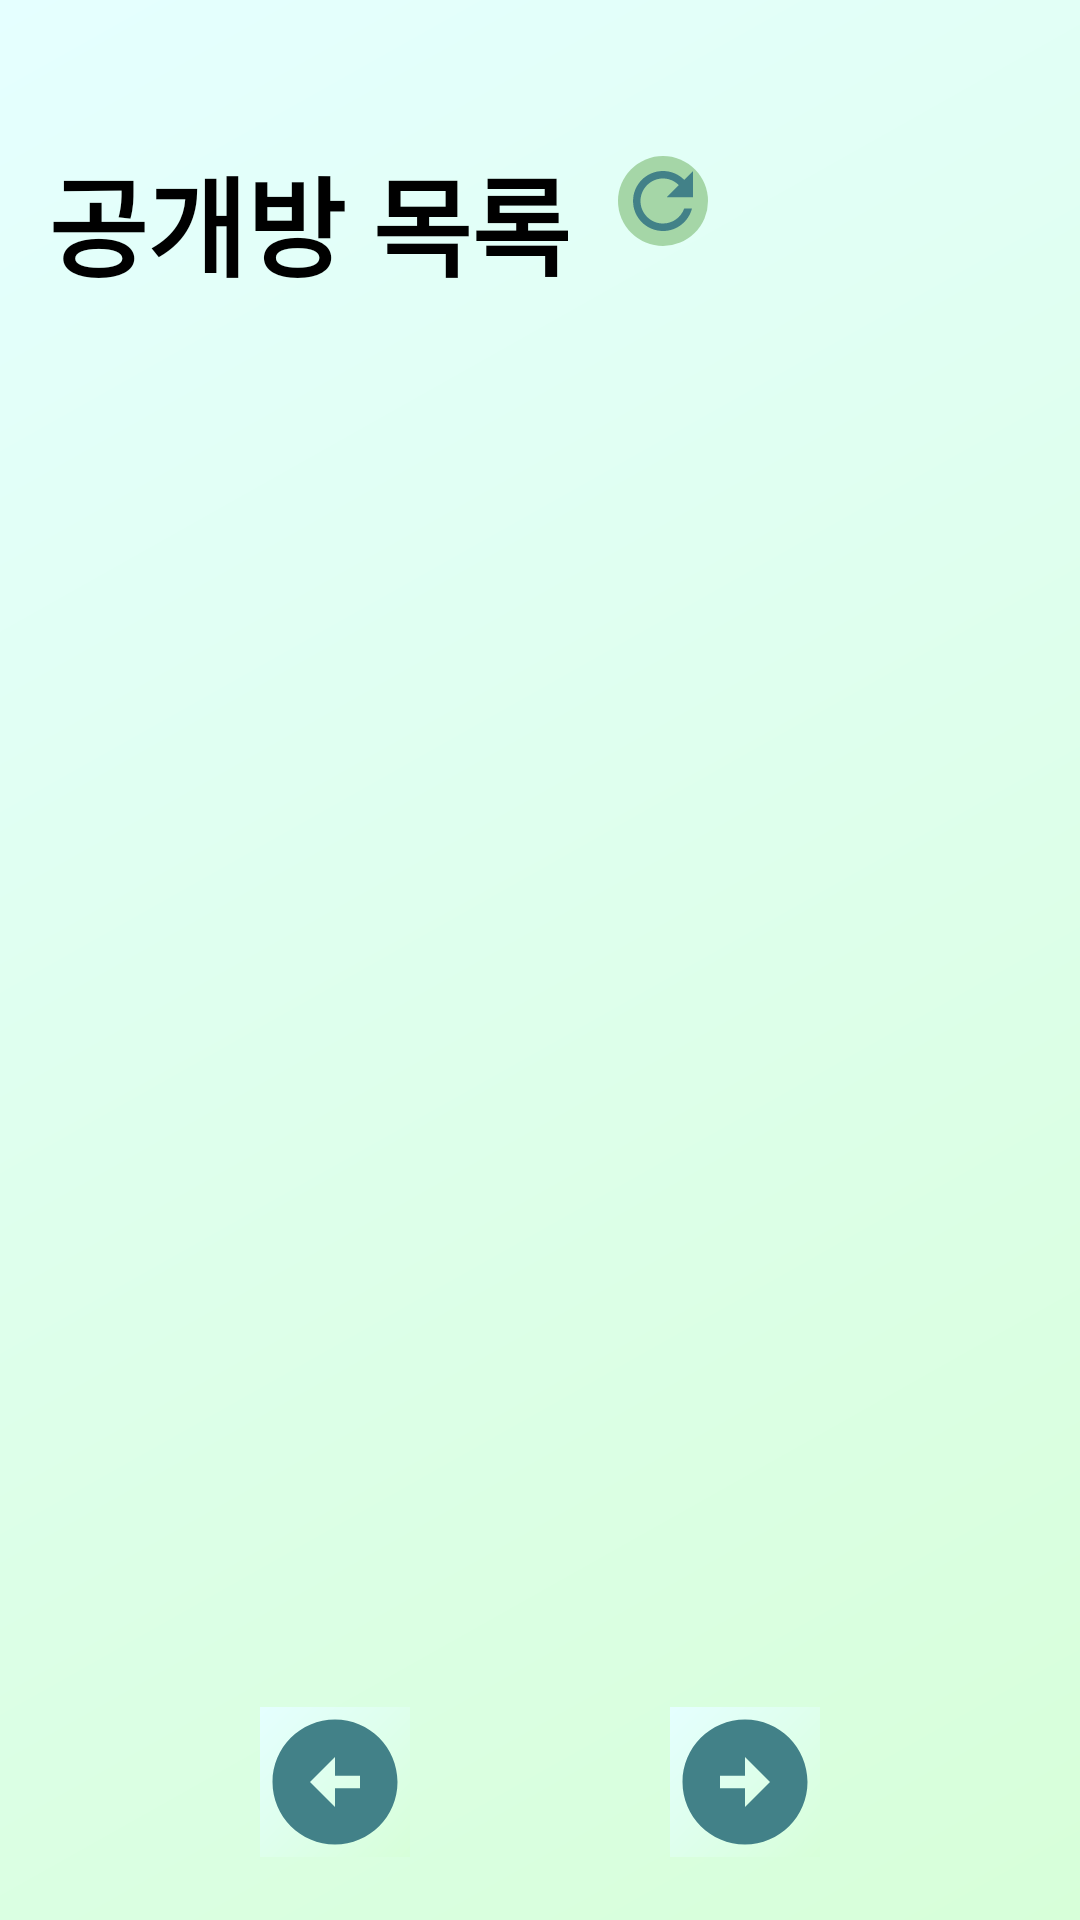

Named icons in this screenshot (1080 × 1920) and their bounding boxes, (x1, y1, x2, y2):
arrow circle left: (260, 1707, 398, 1845)
arrow circle right: (670, 1707, 808, 1845)
refresh: (618, 156, 708, 246)
